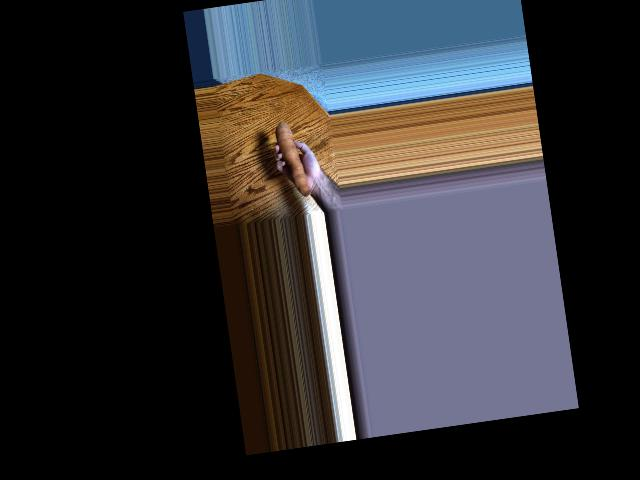sweet_potato: (269, 115, 313, 195)
